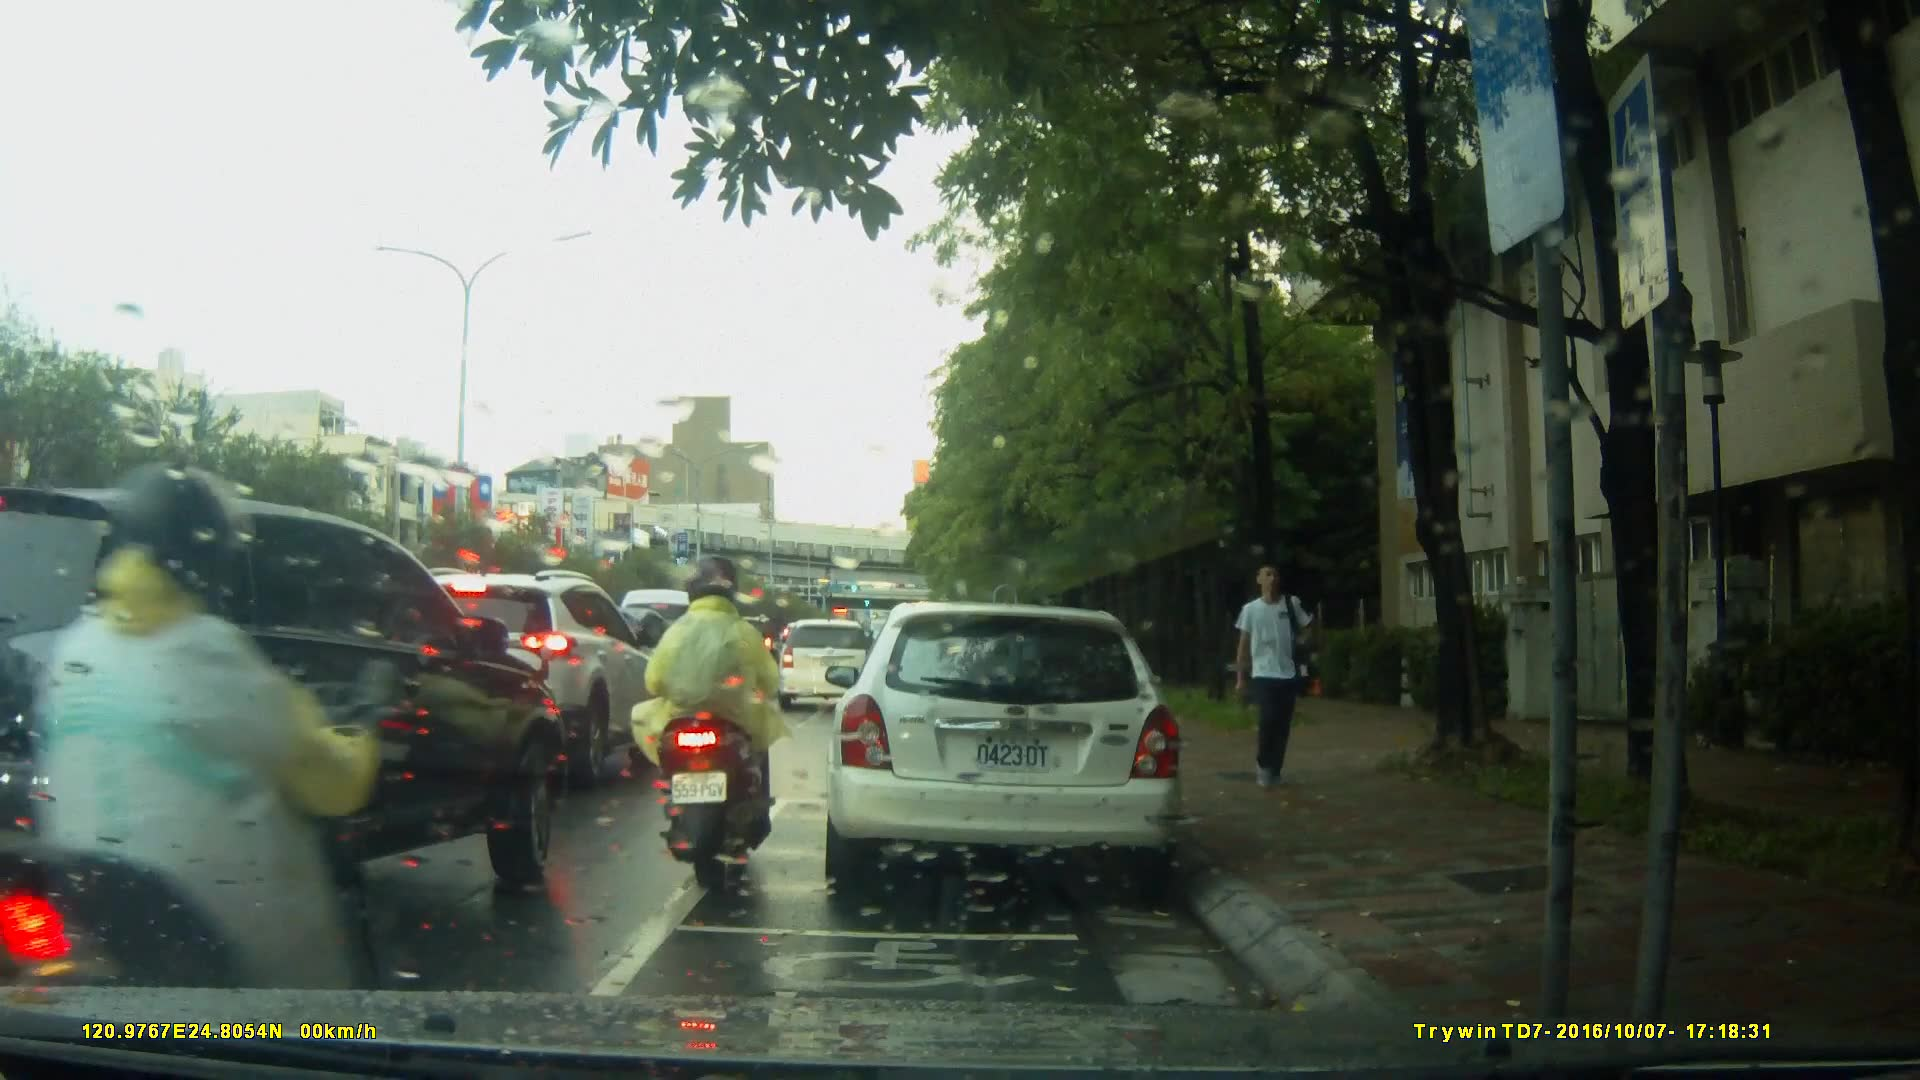pedestrian: (1224, 559, 1321, 803)
rider: (9, 472, 374, 1055), (644, 555, 795, 886)
vehicle: (1, 480, 571, 973), (820, 602, 1188, 898), (361, 566, 668, 784), (612, 587, 731, 717), (771, 617, 880, 711)
